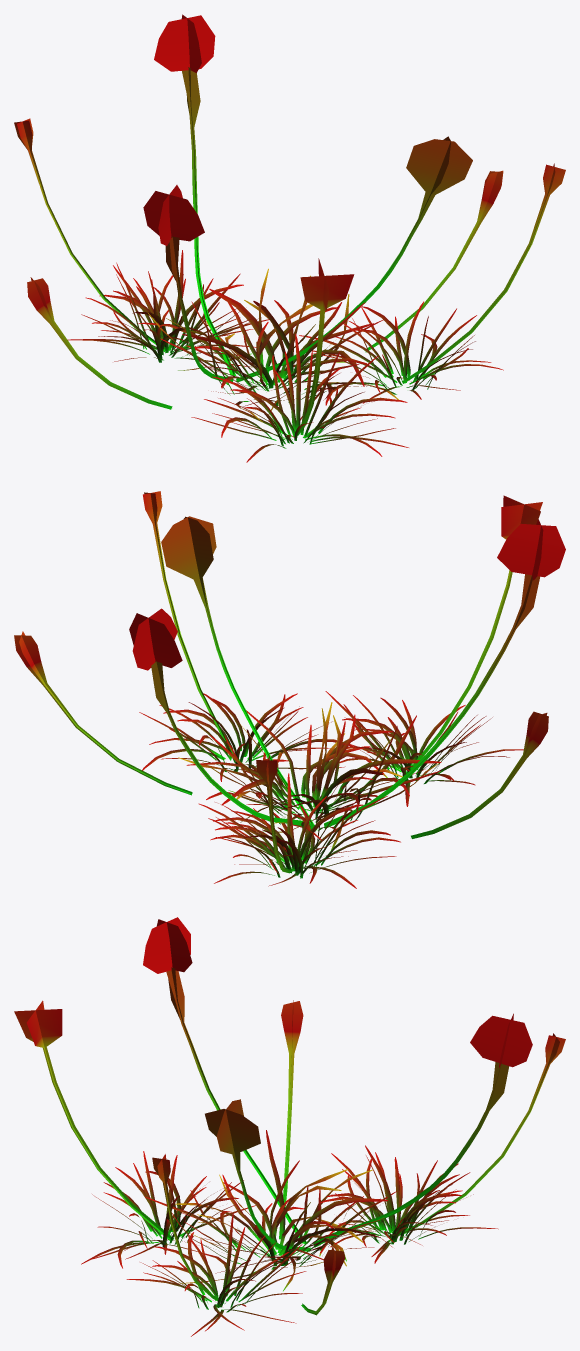
File: Var3_LOD1.fbx
3 renders of one model, top to bottom at view 1: azimuth 30°, elevation 25°; view 2: azimuth 150°, elevation 25°; view 3: azimuth 270°, elevation 25°, orthographic. The views are drawn at different scales.
Parts seen in each view (by area): view 1: _srg1_Var3_LOD1; view 2: _srg1_Var3_LOD1; view 3: _srg1_Var3_LOD1.
Part boxes in pixels (bbox=[...]): _srg1_Var3_LOD1: bbox=[14, 14, 565, 462]; _srg1_Var3_LOD1: bbox=[14, 491, 565, 888]; _srg1_Var3_LOD1: bbox=[14, 917, 565, 1336].
Size of the model in its own units: 34.18 by 18.41 by 34.7.
